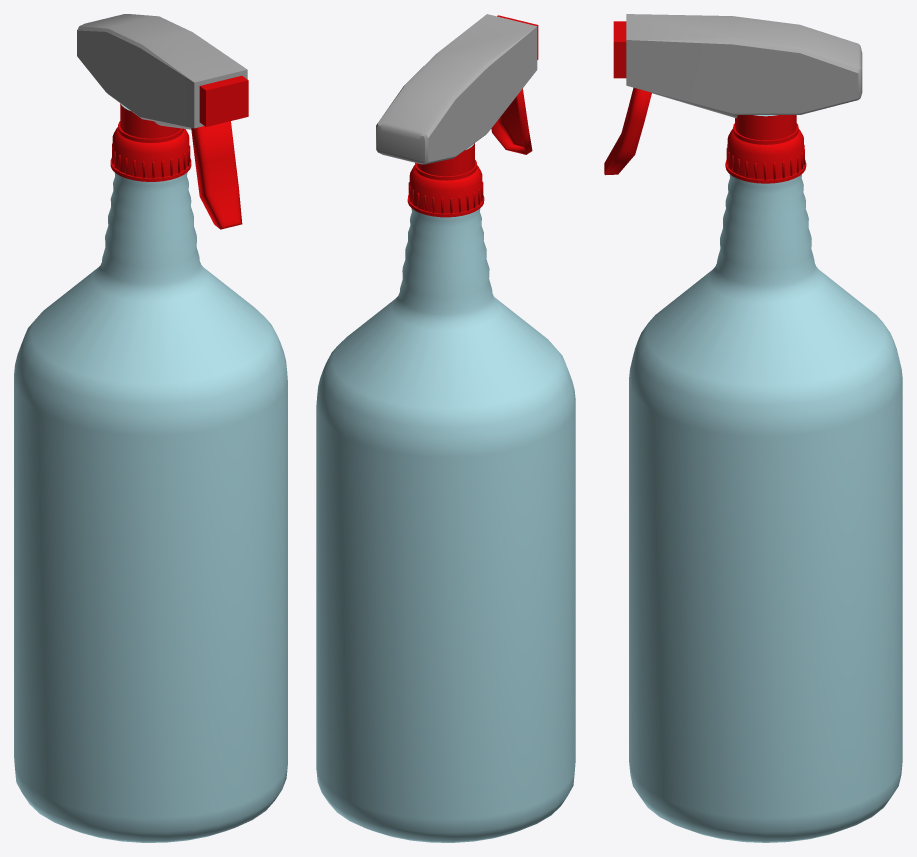
Rendered from spray bottle.fbx.
The picture shows the model from 3 angles, left to right: view 1: azimuth 30°, elevation 25°; view 2: azimuth 150°, elevation 25°; view 3: azimuth 270°, elevation 25°; orthographic projection. The views are drawn at different scales.
Visible parts, largest first — view 1: Bottle, Head, Trigger, Cap detail; view 2: Bottle, Head, Trigger, Cap detail; view 3: Bottle, Head, Trigger.
Boxes of the visible parts, <box> form: Bottle: <box>14,103,287,842</box>; Head: <box>77,14,248,128</box>; Trigger: <box>191,121,242,229</box>; Cap detail: <box>112,143,190,178</box>; Bottle: <box>316,143,575,842</box>; Head: <box>376,14,538,164</box>; Trigger: <box>491,88,532,154</box>; Cap detail: <box>408,181,483,213</box>; Bottle: <box>629,115,902,842</box>; Head: <box>613,14,862,114</box>; Trigger: <box>604,87,651,175</box>.
Size of the model in its own units: 224 by 694 by 244.
